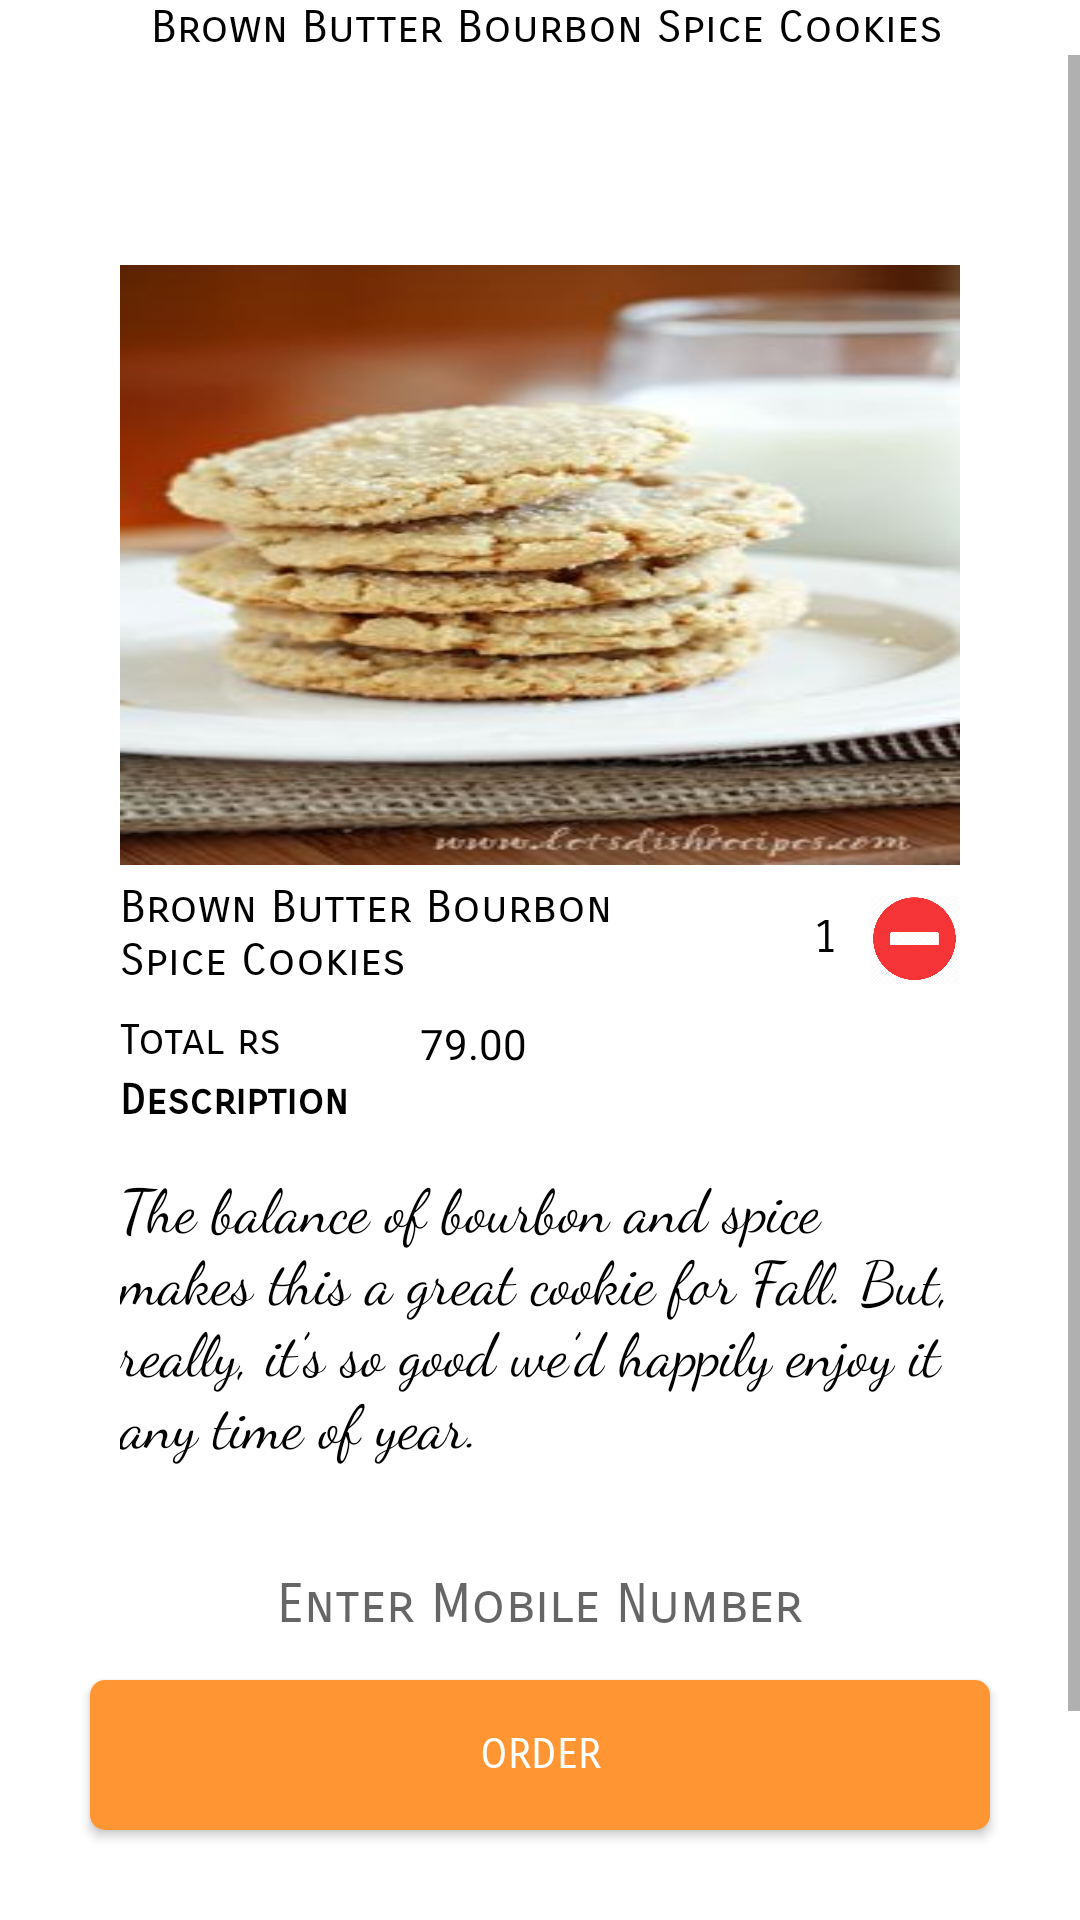

Named icons in this screenshot (1080×1920) and their centers, (x=x, y=y):
minus: (x=914, y=938)
